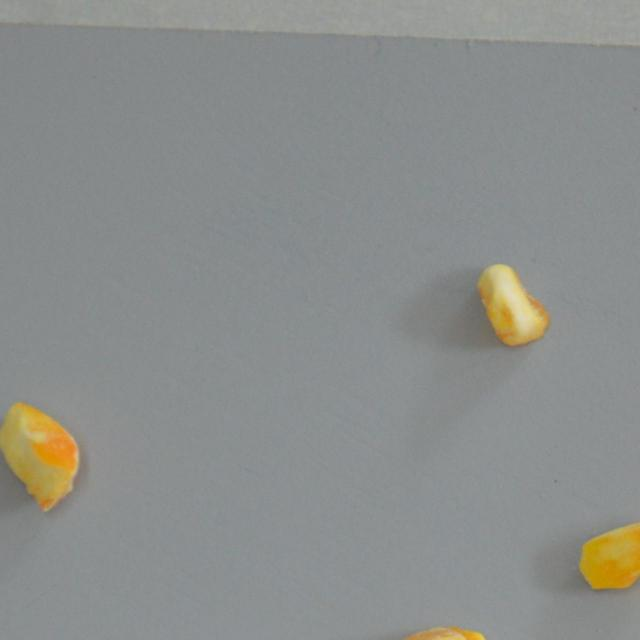dañado: (0, 399, 90, 516)
estandar: (474, 261, 550, 350)
pelicula: (576, 509, 640, 592), (378, 619, 489, 640)
